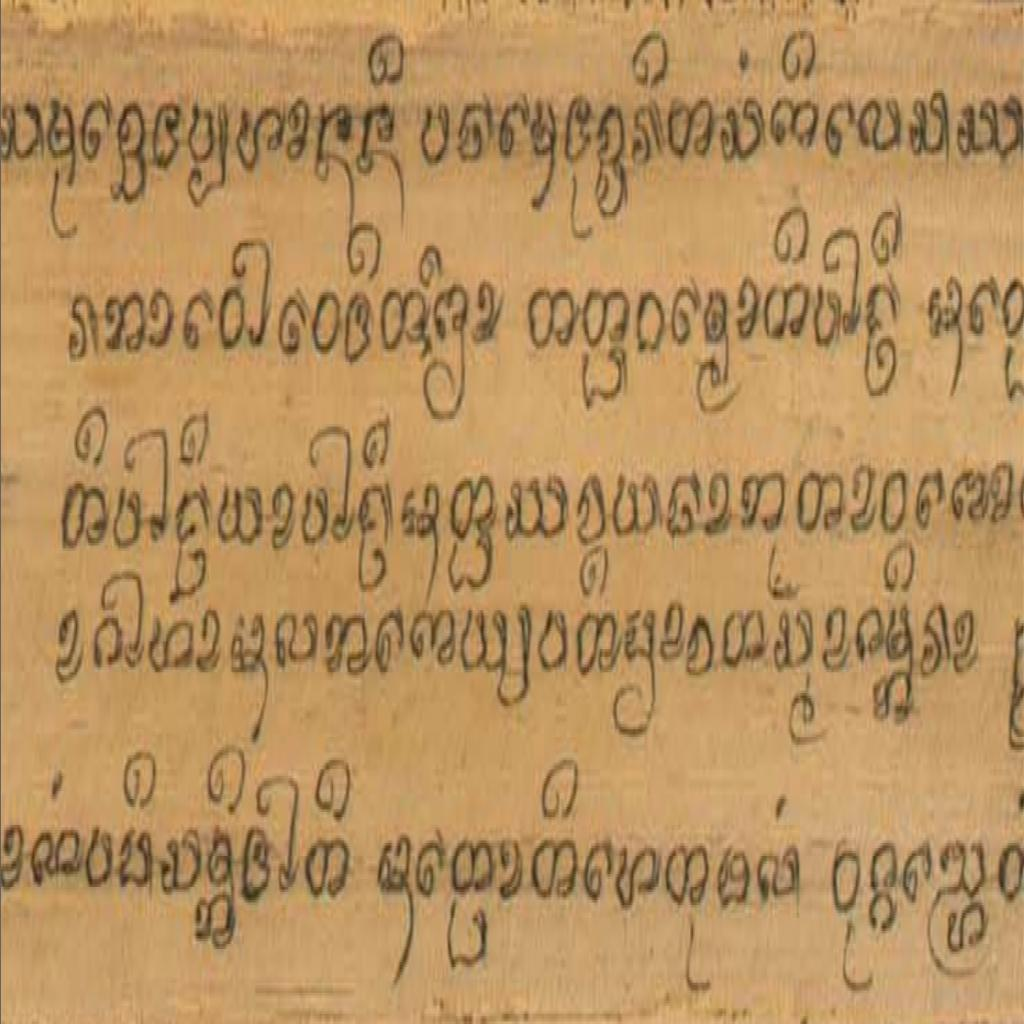LN030: (103, 286, 148, 361)
